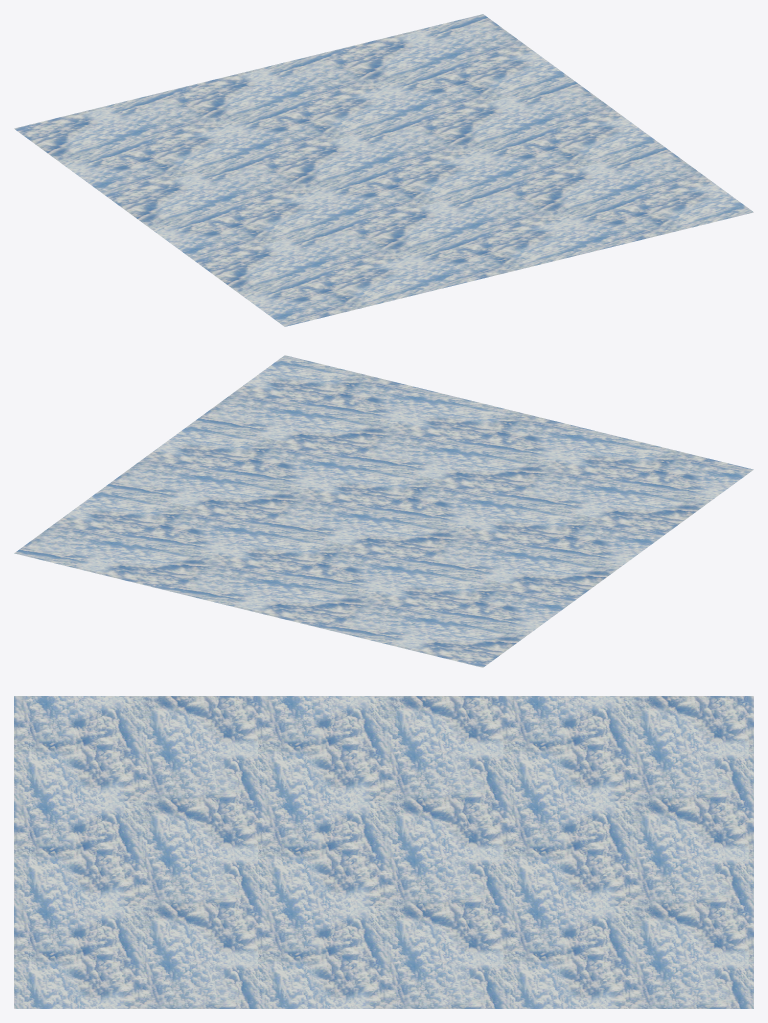
File: environment_sky_yunhai_001_a_001.FBX
3 renders of one model, top to bottom at view 1: azimuth 30°, elevation 25°; view 2: azimuth 150°, elevation 25°; view 3: azimuth 270°, elevation 25°, orthographic. The views are drawn at different scales.
Parts seen in each view (by area): view 1: environment_sky_yunhai_001_a; view 2: environment_sky_yunhai_001_a; view 3: environment_sky_yunhai_001_a.
Part boxes in pixels (<box>): environment_sky_yunhai_001_a: <box>14,14,753,326</box>; environment_sky_yunhai_001_a: <box>14,355,753,667</box>; environment_sky_yunhai_001_a: <box>14,696,753,1008</box>.
Bounding box in the file's own units: 10 × 6.12e-16 × 10.
